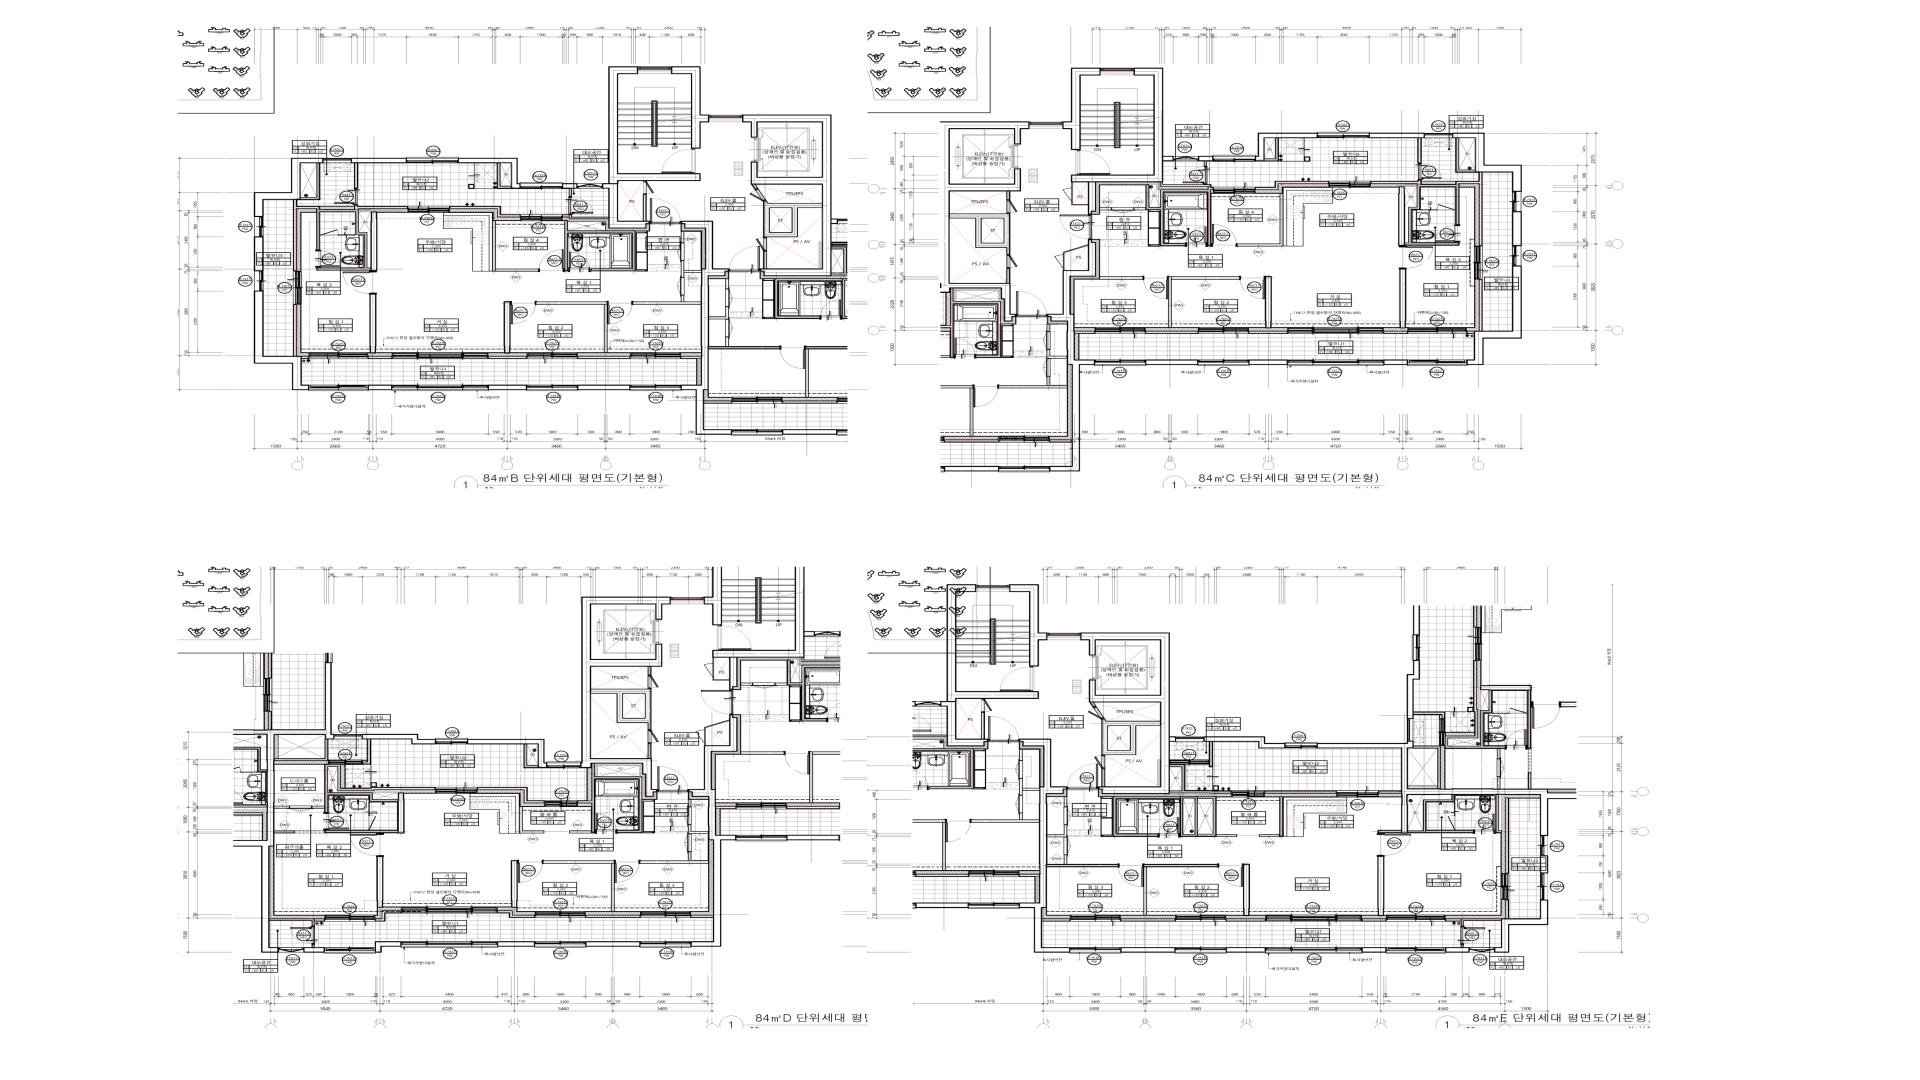door: (1076, 149, 1110, 175), (717, 625, 752, 650), (661, 149, 696, 173), (1067, 764, 1098, 790), (649, 198, 680, 224), (1059, 215, 1092, 240), (1399, 245, 1433, 269), (1000, 667, 1034, 691), (1377, 833, 1411, 857), (343, 270, 377, 294), (658, 766, 688, 793), (351, 833, 384, 857), (729, 247, 760, 272), (615, 860, 641, 884), (517, 860, 543, 884), (1143, 276, 1168, 299), (1240, 276, 1265, 299), (1218, 864, 1244, 887), (1118, 864, 1143, 887), (538, 249, 564, 272), (1212, 224, 1237, 247), (608, 302, 633, 324), (510, 302, 535, 324), (1461, 926, 1486, 945), (1435, 224, 1461, 243), (1183, 166, 1208, 185), (290, 926, 315, 944), (568, 196, 593, 215), (315, 249, 340, 268), (323, 812, 349, 829), (1185, 227, 1208, 247), (595, 814, 617, 833), (1158, 818, 1180, 837), (568, 252, 591, 272), (1474, 814, 1495, 833), (1418, 164, 1441, 181), (334, 189, 357, 204), (749, 189, 766, 204), (1085, 707, 1105, 720), (754, 237, 767, 252), (647, 674, 659, 688), (1006, 255, 1018, 268), (1006, 200, 1018, 214), (647, 729, 658, 744), (1112, 207, 1134, 214), (290, 806, 313, 812), (981, 699, 992, 712), (1095, 756, 1105, 769), (1448, 814, 1456, 829), (644, 182, 654, 194), (1437, 204, 1456, 211), (320, 229, 339, 236), (368, 815, 376, 829)
wall: (1316, 741, 1548, 836), (940, 121, 1030, 322), (582, 596, 671, 796), (261, 731, 334, 953), (603, 66, 702, 228), (1081, 633, 1176, 794), (1071, 67, 1174, 214), (947, 584, 1039, 746), (742, 115, 831, 276), (712, 543, 804, 690), (688, 715, 737, 947), (1019, 738, 1071, 953), (680, 222, 732, 435), (1370, 173, 1482, 247), (293, 200, 407, 272), (1047, 239, 1096, 365), (1466, 266, 1523, 365), (255, 291, 309, 390), (324, 765, 435, 812), (578, 764, 642, 833), (1146, 182, 1215, 247), (1113, 796, 1217, 837), (253, 158, 323, 218), (1453, 133, 1522, 193), (1143, 864, 1217, 915), (543, 861, 615, 913), (564, 220, 636, 272), (1168, 277, 1240, 327), (537, 302, 607, 352), (1063, 67, 1101, 150), (671, 66, 709, 149), (704, 543, 742, 625), (1010, 584, 1047, 667), (443, 212, 493, 272), (1494, 899, 1548, 953), (1408, 795, 1474, 833), (949, 214, 1010, 255), (467, 738, 547, 769), (1238, 194, 1283, 247), (493, 222, 538, 272), (1101, 719, 1160, 756), (764, 200, 822, 237), (458, 158, 521, 189), (1257, 133, 1319, 162), (1170, 765, 1232, 794), (274, 740, 328, 761), (1204, 736, 1286, 749), (477, 787, 545, 803), (1047, 855, 1118, 868), (361, 733, 436, 745), (450, 206, 521, 218), (640, 852, 708, 864), (301, 164, 320, 200), (520, 806, 545, 833), (1255, 181, 1329, 190), (1456, 138, 1476, 173), (633, 295, 702, 305), (981, 219, 1004, 243), (770, 208, 793, 232), (642, 799, 655, 833), (1071, 182, 1088, 206), (376, 857, 384, 907), (1399, 269, 1406, 328), (369, 294, 376, 353), (1378, 857, 1385, 915), (371, 212, 377, 270), (1121, 947, 1176, 953), (253, 237, 264, 272), (680, 261, 702, 278), (269, 919, 314, 927), (1265, 276, 1271, 328), (524, 745, 538, 769), (1265, 138, 1279, 162), (1244, 864, 1250, 915), (504, 302, 510, 353), (497, 164, 510, 189), (1513, 211, 1522, 247), (375, 910, 402, 922), (375, 942, 402, 953), (397, 793, 405, 833), (510, 860, 517, 907), (1399, 187, 1404, 245), (497, 910, 535, 918), (1369, 133, 1425, 138), (351, 158, 407, 164), (1506, 798, 1510, 873), (324, 829, 398, 833), (585, 942, 641, 947), (1265, 790, 1337, 794), (1146, 360, 1199, 365), (578, 385, 630, 390), (1461, 919, 1501, 926), (1047, 824, 1067, 837), (1495, 795, 1502, 833), (363, 740, 372, 765), (1279, 796, 1284, 837), (1225, 948, 1266, 953), (1249, 360, 1288, 365), (688, 824, 708, 835), (488, 385, 527, 390), (293, 305, 297, 356), (497, 942, 535, 947), (562, 215, 608, 219), (1362, 947, 1387, 953), (1445, 947, 1470, 953), (1120, 919, 1176, 922), (585, 915, 641, 918), (1145, 331, 1199, 334), (303, 947, 324, 953), (578, 356, 630, 359), (1540, 856, 1548, 873), (1480, 280, 1482, 331), (1383, 360, 1408, 365), (642, 195, 647, 220), (353, 164, 359, 189), (368, 385, 392, 390), (1100, 277, 1143, 280), (1225, 919, 1267, 922), (981, 712, 985, 738), (1249, 331, 1288, 334), (488, 356, 527, 359), (1209, 742, 1213, 767), (1418, 138, 1422, 164), (1378, 829, 1402, 833), (1378, 790, 1402, 794), (562, 183, 578, 189), (1506, 899, 1510, 919), (1199, 156, 1213, 161), (1042, 919, 1071, 922), (764, 251, 767, 269), (1361, 919, 1387, 922), (1101, 769, 1105, 786), (1383, 331, 1408, 334), (368, 356, 393, 359), (690, 915, 713, 918), (1006, 269, 1010, 284), (570, 831, 591, 833), (1075, 331, 1096, 334), (274, 831, 294, 833), (1259, 835, 1279, 837), (1217, 835, 1237, 837), (680, 356, 700, 359), (1134, 207, 1146, 211), (1100, 207, 1112, 211), (680, 231, 684, 243), (274, 806, 290, 808), (1445, 919, 1461, 922), (1089, 703, 1097, 708), (1006, 191, 1010, 200), (752, 185, 758, 190), (688, 799, 692, 807), (313, 806, 324, 808), (1101, 835, 1113, 837), (1101, 796, 1113, 799), (568, 189, 572, 196), (1064, 796, 1067, 807), (315, 919, 324, 922), (1466, 331, 1474, 334), (1147, 245, 1160, 247), (302, 356, 309, 359), (311, 944, 315, 947), (363, 760, 367, 762), (1461, 945, 1464, 947)
window: (392, 385, 488, 392), (1288, 360, 1383, 367), (1288, 327, 1383, 334), (402, 942, 497, 948), (402, 907, 497, 914), (1266, 915, 1361, 922), (393, 352, 488, 359), (1266, 948, 1362, 953), (1408, 360, 1468, 367), (309, 385, 368, 392), (1387, 915, 1445, 922), (1408, 327, 1466, 334), (310, 352, 367, 359), (1095, 360, 1145, 367), (1199, 360, 1249, 367), (1199, 327, 1249, 334), (1095, 327, 1145, 334), (641, 942, 691, 948), (535, 911, 585, 918), (535, 942, 585, 948), (1176, 947, 1226, 953), (1071, 915, 1121, 922), (1319, 132, 1369, 138), (407, 157, 458, 164), (630, 352, 680, 359), (630, 385, 680, 392), (527, 385, 578, 392), (1337, 790, 1378, 798), (641, 911, 690, 918), (326, 915, 375, 922), (1176, 915, 1225, 922), (1387, 948, 1445, 953), (293, 272, 302, 305), (1213, 187, 1255, 194), (435, 787, 477, 794), (1213, 156, 1255, 162), (1329, 181, 1370, 187), (407, 206, 448, 212), (521, 182, 562, 189), (521, 215, 562, 222), (324, 948, 375, 953), (1071, 948, 1121, 953), (527, 353, 578, 359), (1232, 790, 1265, 798), (1474, 247, 1482, 280), (1101, 67, 1134, 75), (1030, 121, 1063, 129), (638, 66, 671, 74), (709, 115, 742, 123), (1501, 874, 1510, 899), (547, 762, 582, 769), (742, 543, 775, 550), (545, 800, 578, 807), (671, 597, 704, 604), (1047, 633, 1080, 640), (976, 585, 1009, 592), (1170, 760, 1209, 765), (1540, 874, 1548, 901), (1286, 742, 1316, 749), (255, 272, 264, 291), (328, 760, 363, 765), (1513, 247, 1522, 265), (1513, 193, 1522, 211), (255, 218, 264, 236), (436, 738, 467, 744), (1540, 836, 1548, 856), (323, 158, 351, 164), (335, 735, 361, 740), (1425, 133, 1452, 138), (1174, 156, 1199, 161), (578, 183, 603, 189), (1176, 737, 1204, 741), (278, 948, 303, 952), (1470, 948, 1494, 952)
